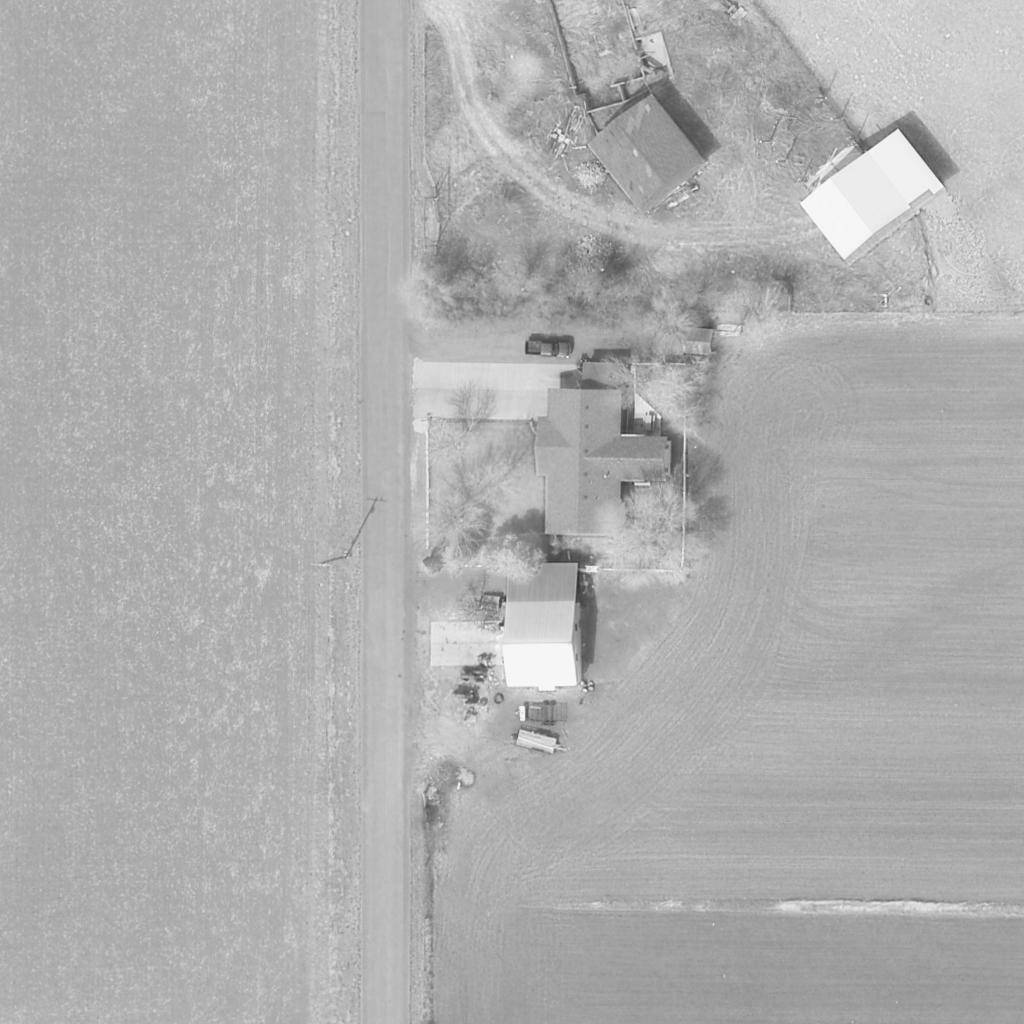vehicle: (522, 338, 572, 360)
